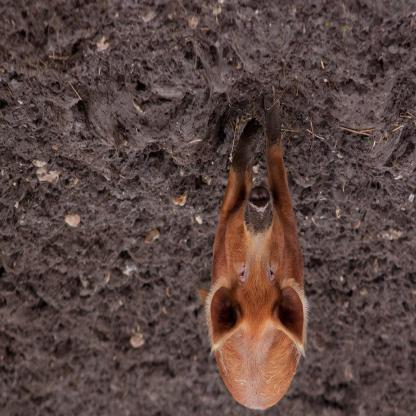boar: (197, 93, 307, 410)
